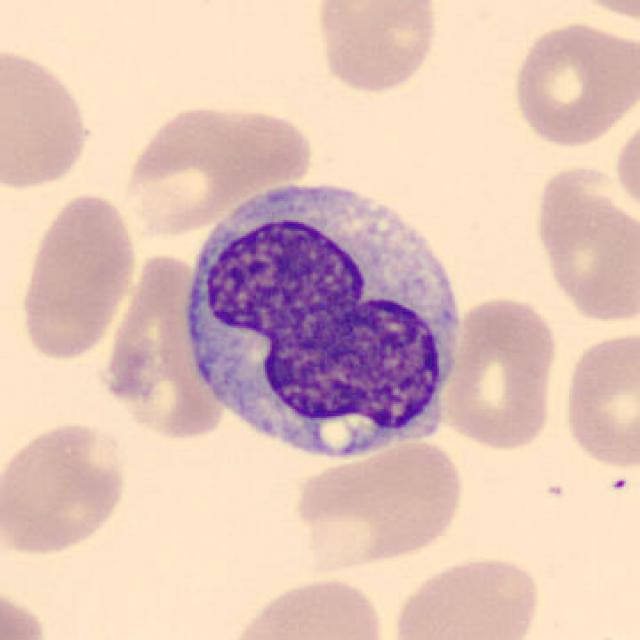Monocyte: (171, 169, 469, 478)
RBC: (117, 99, 311, 238), (288, 432, 468, 576), (106, 254, 230, 438), (14, 187, 142, 365), (436, 293, 564, 455), (0, 418, 133, 559), (528, 160, 638, 328), (506, 18, 636, 150), (0, 40, 96, 194), (388, 552, 546, 640), (311, 0, 443, 97), (558, 326, 640, 473), (221, 571, 391, 640), (612, 111, 638, 222), (0, 583, 50, 640), (562, 0, 640, 21)
